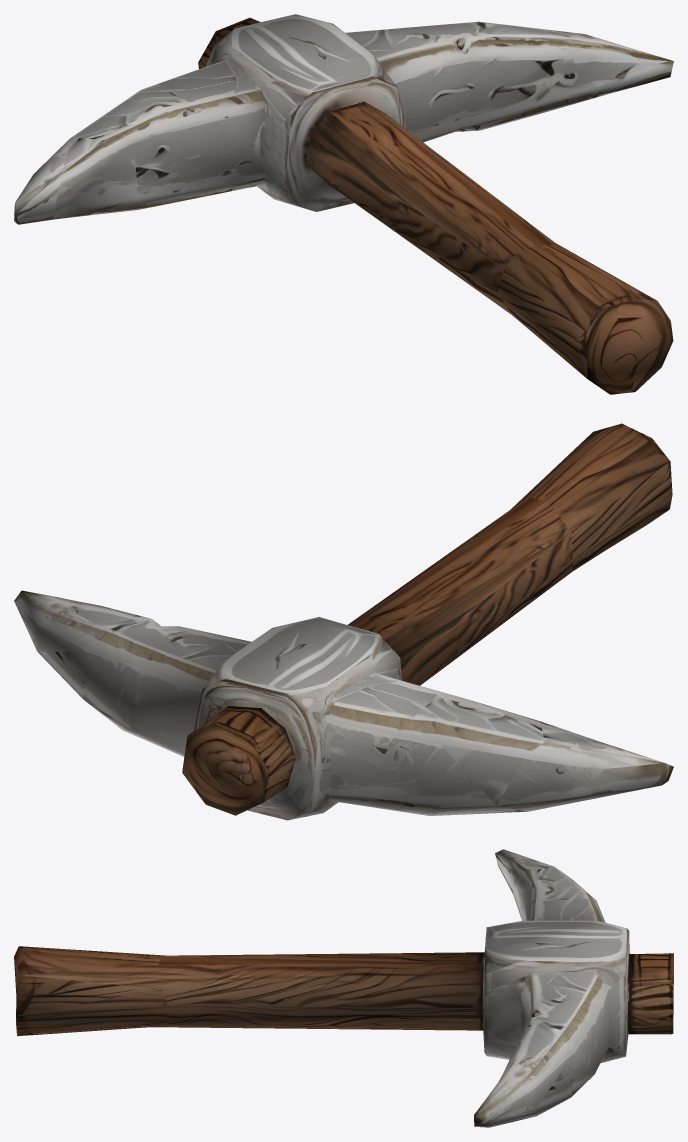
The picture shows the model from 3 angles, top to bottom: view 1: azimuth 30°, elevation 25°; view 2: azimuth 150°, elevation 25°; view 3: azimuth 270°, elevation 25°; orthographic projection. The views are drawn at different scales.
Parts seen in each view (by area): view 1: texture_pbr_v128; view 2: texture_pbr_v128; view 3: texture_pbr_v128.
Boxes of the visible parts, <box> form: texture_pbr_v128: <box>14,14,673,394</box>; texture_pbr_v128: <box>14,423,673,820</box>; texture_pbr_v128: <box>14,849,673,1127</box>.
Size of the model in its own units: 107 by 19.5 by 112.
Materials: 1 (1 with a texture image).
